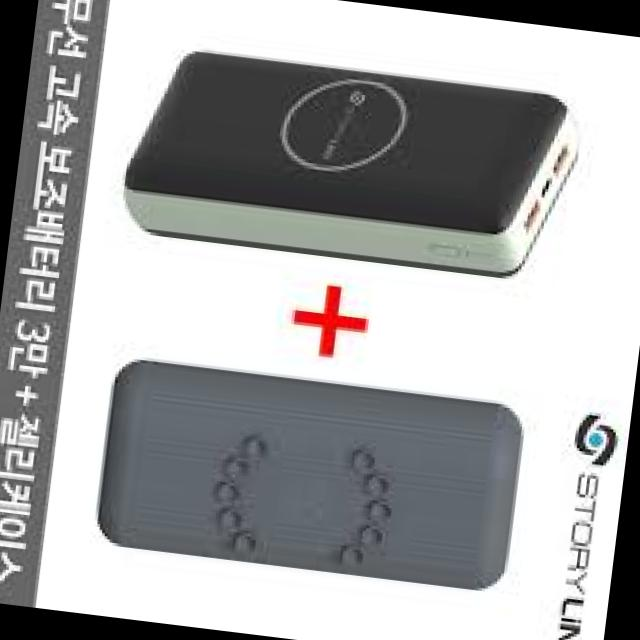portable-charger: (112, 42, 586, 288)
